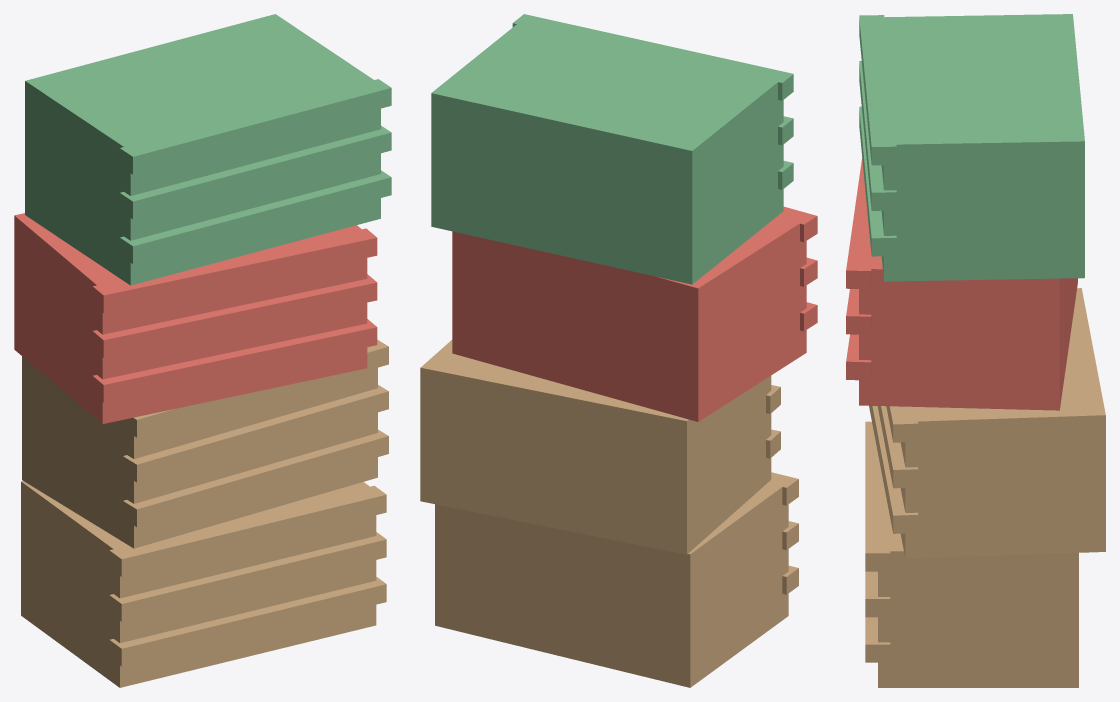
File: street-food-market-and-food-trucks-crate-stack-a5e73704__34310.glb
The picture shows the model from 3 angles, left to right: view 1: azimuth 30°, elevation 25°; view 2: azimuth 150°, elevation 25°; view 3: azimuth 270°, elevation 25°; orthographic projection. The views are drawn at different scales.
Parts seen in each view (by area): view 1: crate-stack-timber, crate-stack-leaf, crate-stack-scarlet; view 2: crate-stack-timber, crate-stack-leaf, crate-stack-scarlet; view 3: crate-stack-timber, crate-stack-leaf, crate-stack-scarlet.
Boxes of the visible parts, x1=… form: crate-stack-timber: x1=21, y1=339, x2=388, y2=687; crate-stack-leaf: x1=25, y1=14, x2=391, y2=285; crate-stack-scarlet: x1=14, y1=213, x2=377, y2=423; crate-stack-timber: x1=420, y1=340, x2=798, y2=687; crate-stack-leaf: x1=431, y1=14, x2=793, y2=284; crate-stack-scarlet: x1=452, y1=206, x2=817, y2=421; crate-stack-timber: x1=865, y1=288, x2=1105, y2=687; crate-stack-leaf: x1=859, y1=14, x2=1084, y2=281; crate-stack-scarlet: x1=846, y1=158, x2=1077, y2=410.
Size of the model in its own units: 0.6999 by 1.2 by 0.5165.
